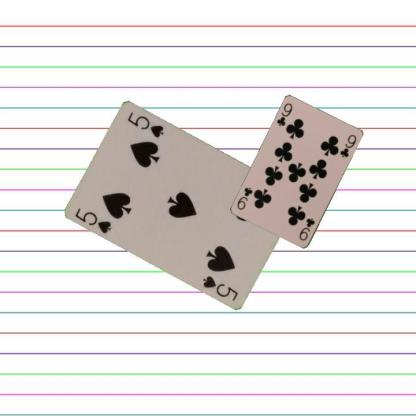5s: (73, 204, 113, 234)
9c: (274, 101, 294, 128), (296, 216, 316, 242)
